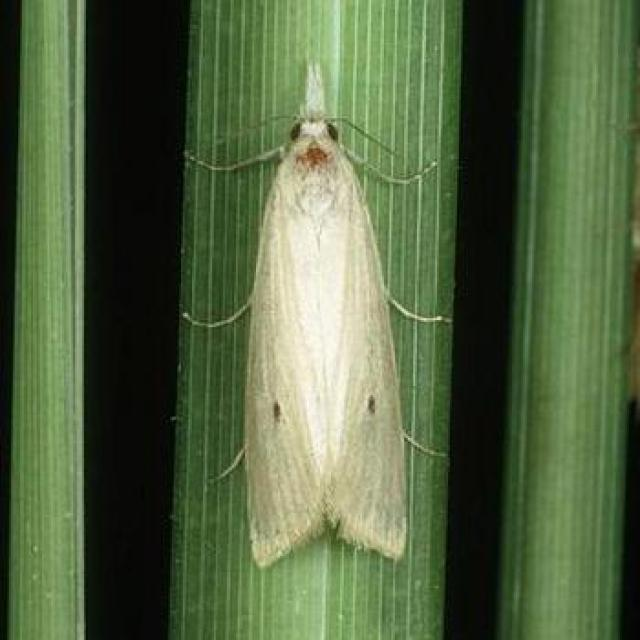yellow-stem-borer: (159, 55, 493, 569)
